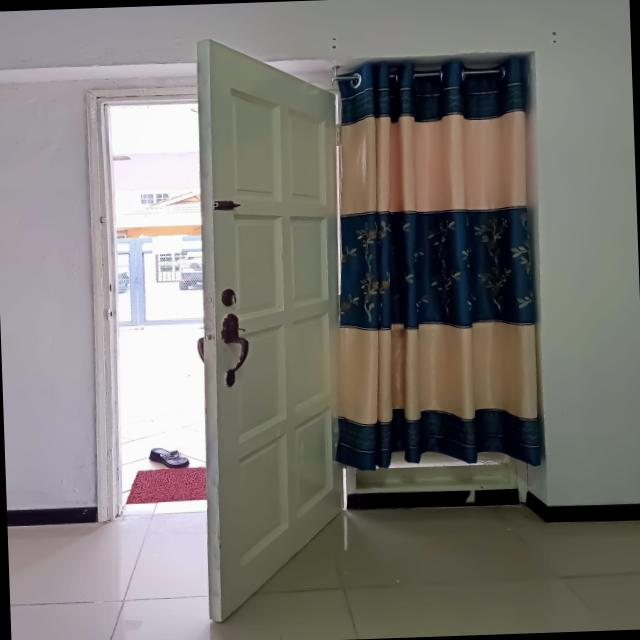door: (89, 38, 345, 622)
